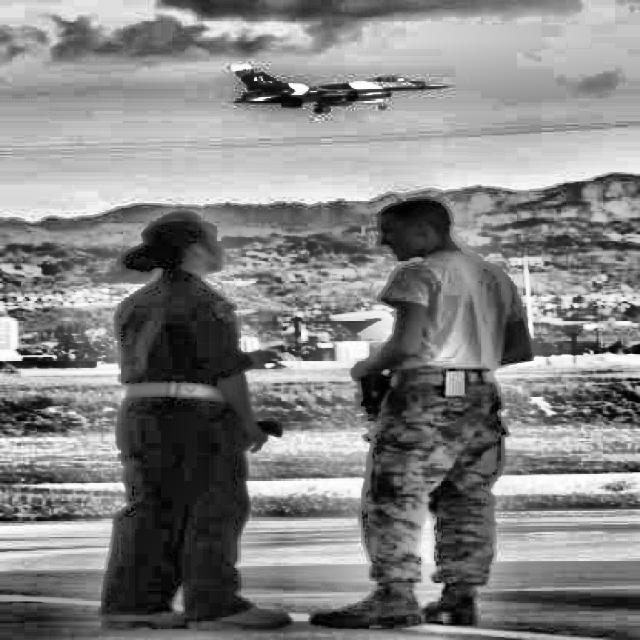C17: (314, 310, 640, 367)
F16: (228, 64, 457, 114)
